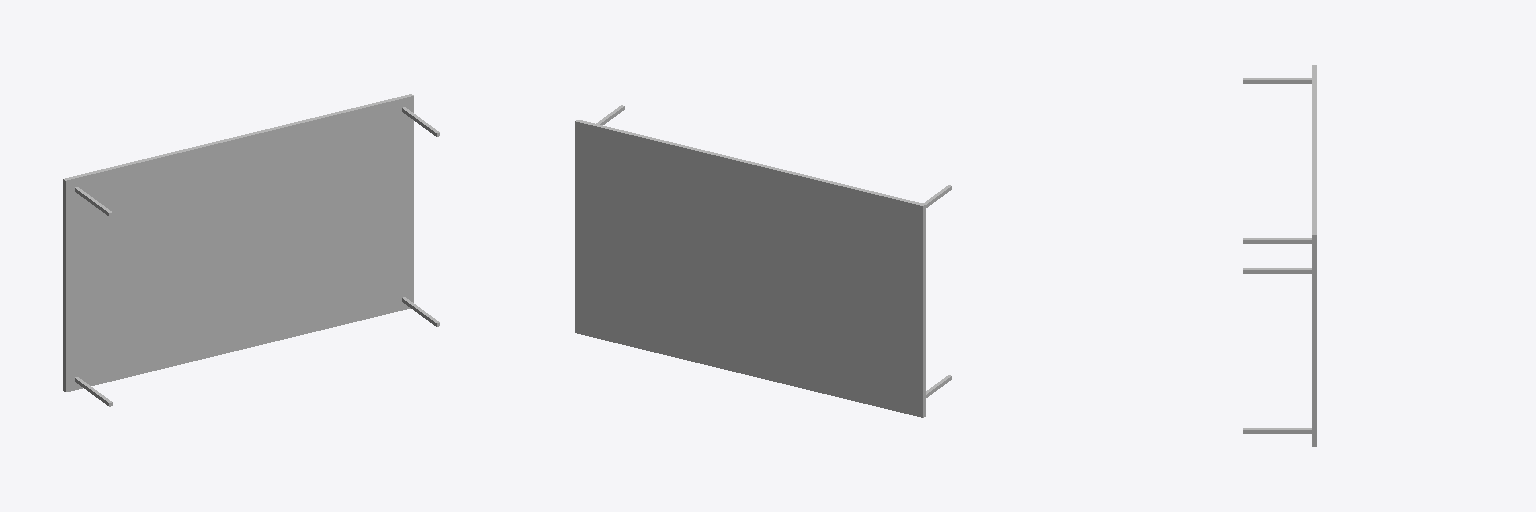
Rendered from random_table6.obj.
The picture shows the model from 3 angles: view 1: azimuth 30°, elevation 25°; view 2: azimuth 150°, elevation 25°; view 3: azimuth 270°, elevation 25°; orthographic projection.
Visible parts, largest first — view 1: Table_Cube.225; view 2: Table_Cube.225; view 3: Table_Cube.225.
Boxes of the visible parts, box(x1,y1,x2,y2) form: Table_Cube.225: box(63, 94, 413, 391); Table_Cube.225: box(575, 120, 925, 417); Table_Cube.225: box(1312, 65, 1316, 446).
Bounding box in the file's own units: 13.19 × 7.67 × 2.45.